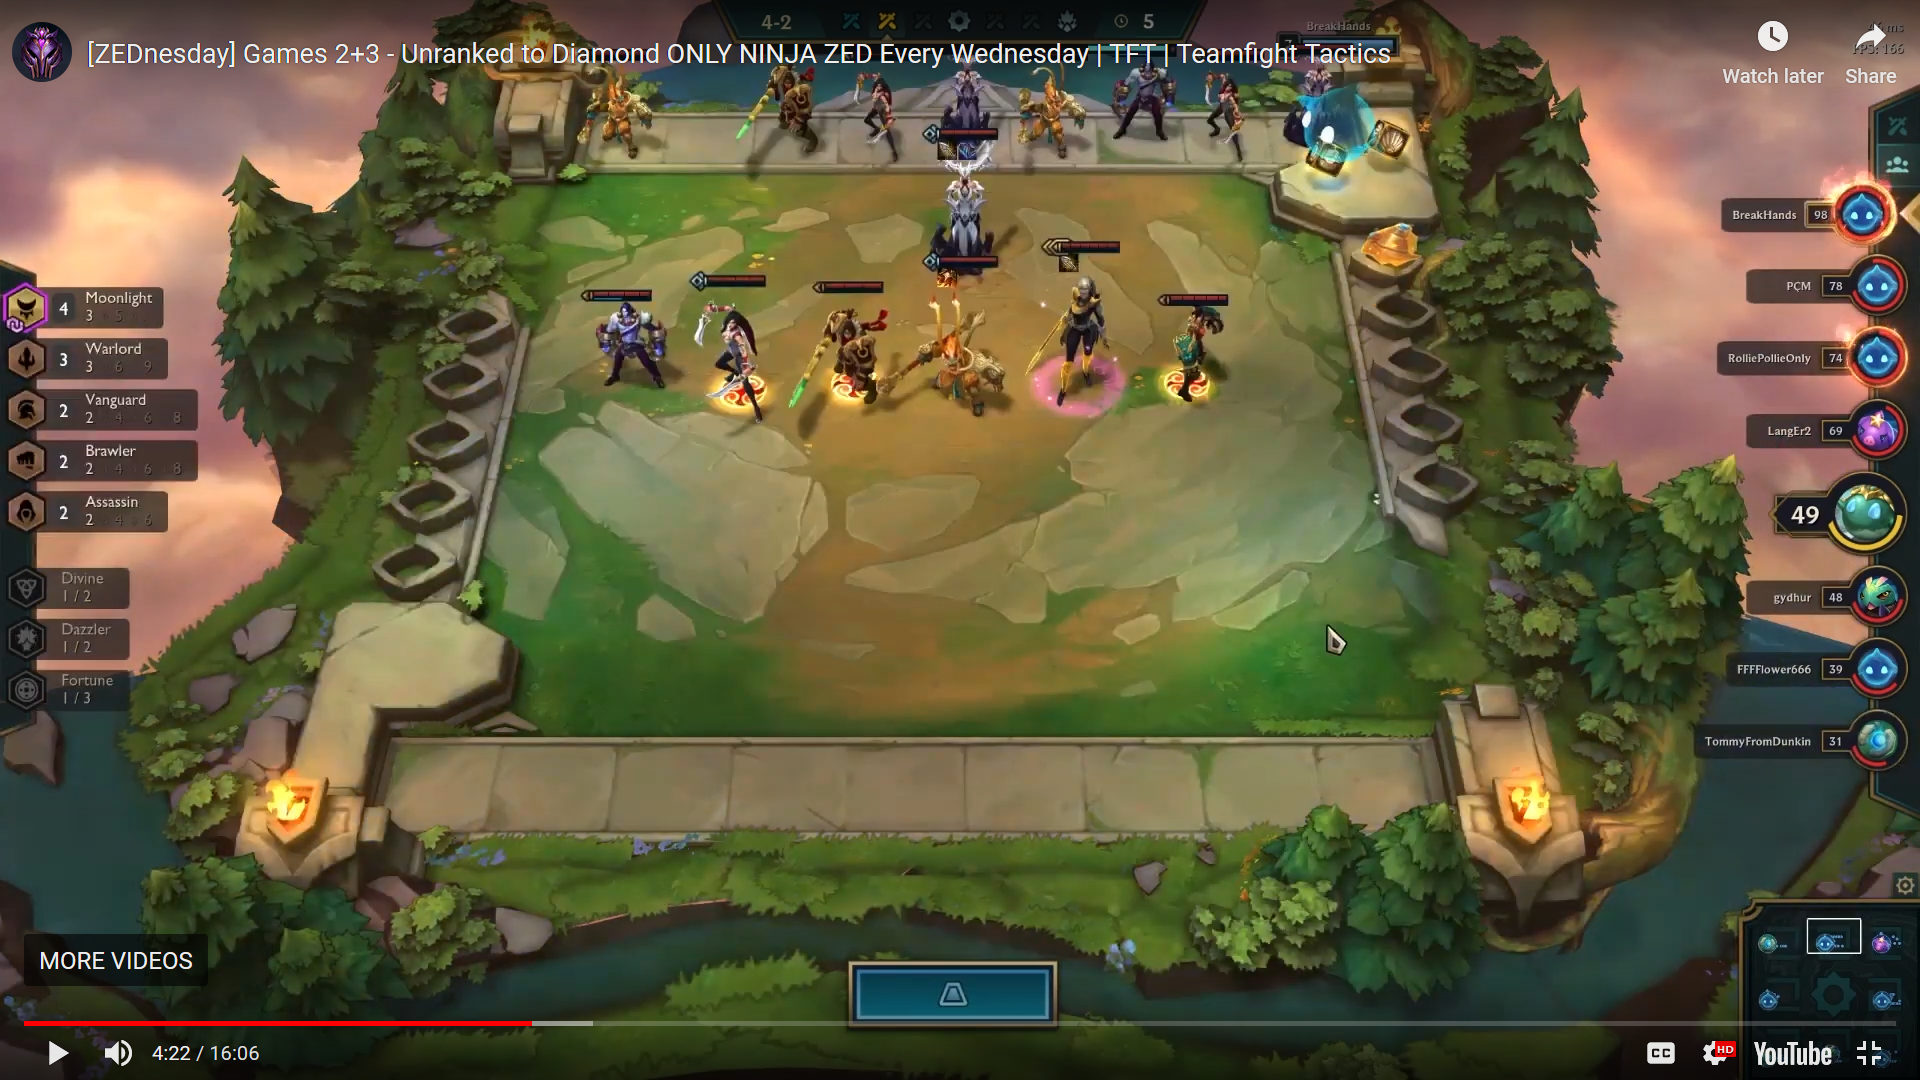1star_garen: (781, 274, 898, 431)
1star_sylas: (566, 277, 680, 404)
1star_vi: (1135, 278, 1253, 414)
2star_katarina: (675, 258, 781, 440)
2star_lissandra: (906, 117, 1013, 282)
2star_wukong: (858, 249, 1019, 443)
3star_diana: (1018, 229, 1138, 427)
item_ie: (1058, 249, 1083, 277), (934, 136, 957, 164)
item_morello: (956, 137, 980, 160)
item_sunfire: (936, 262, 960, 291)
trait_assassin1: (1, 484, 214, 537)
trait_brawler2: (1, 434, 214, 487)
trait_dazzler1: (1, 611, 214, 663)
trait_divine1: (1, 560, 214, 613)
trait_fortune1: (1, 659, 214, 713)
trait_moonlight4: (1, 284, 214, 336)
trait_moonlight_chosen: (1, 277, 53, 336)
trait_vanguard2: (1, 380, 214, 433)
trait_warlord3: (1, 334, 214, 386)
